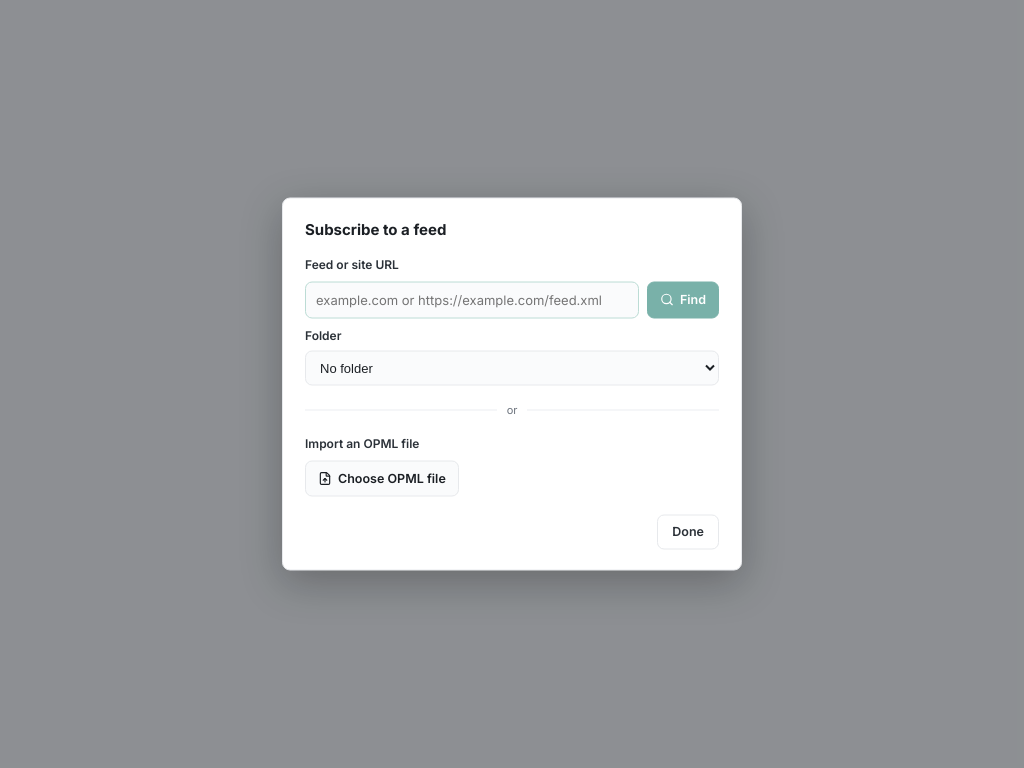
Scenario: AddSubscriptionDialog › surfaces a server error (already subscribed) without closing
In the field labelled "Feed or site URL": (472, 300) x1=305 y1=281 x2=639 y2=318, type "ex.com"
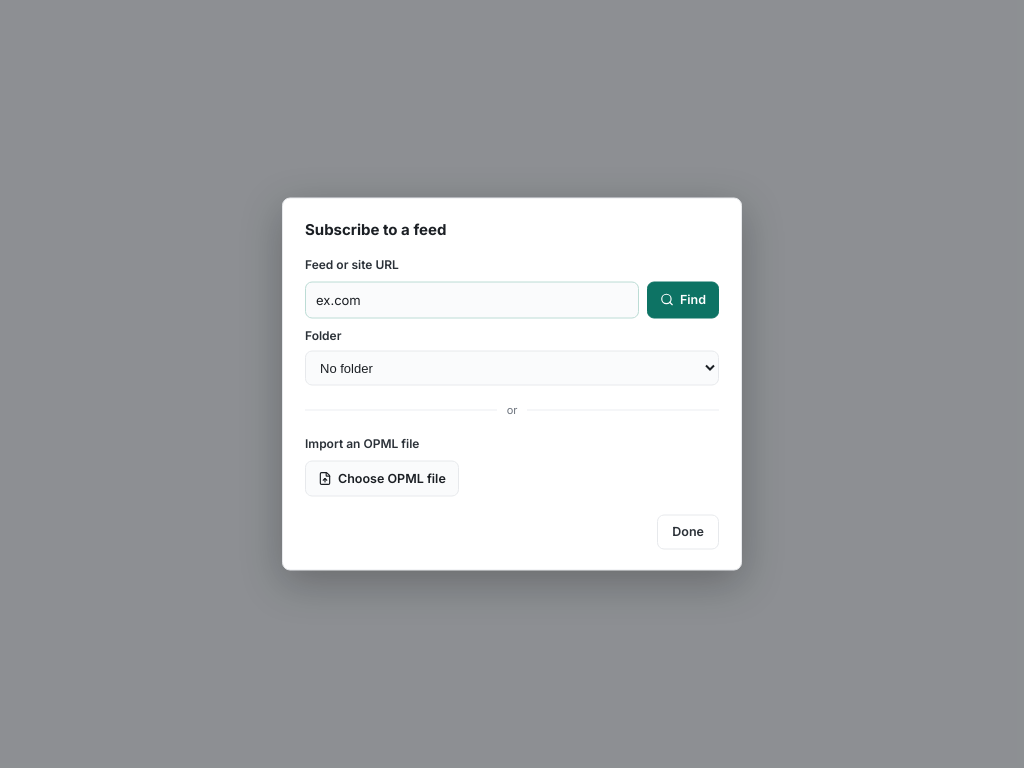
Click the button "Find": (683, 300) x1=647 y1=281 x2=719 y2=318
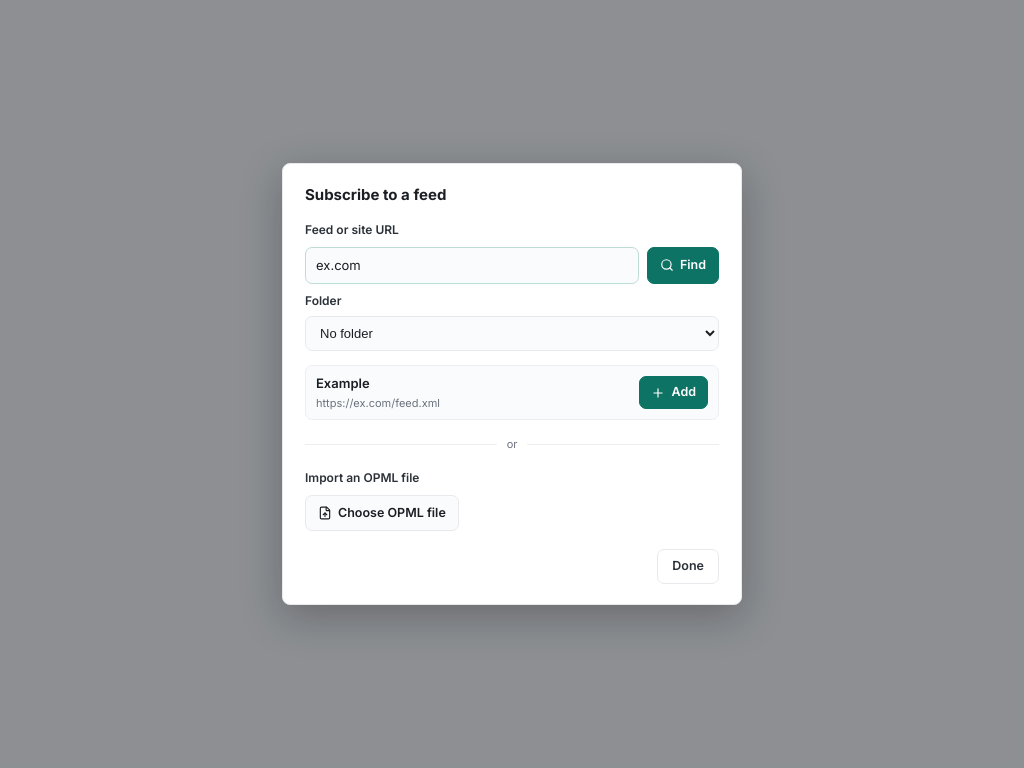
Click the button "Add": (674, 392) x1=640 y1=376 x2=708 y2=409
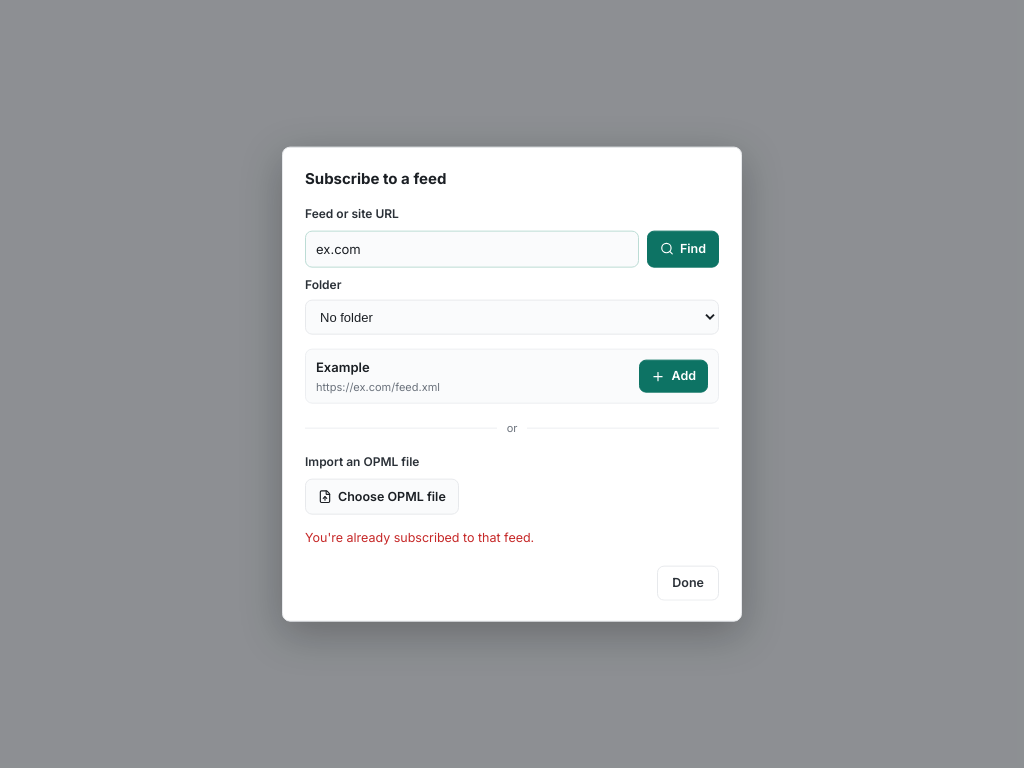
Expected: the message shows "already subscribed", x1=305 y1=530 x2=534 y2=545
